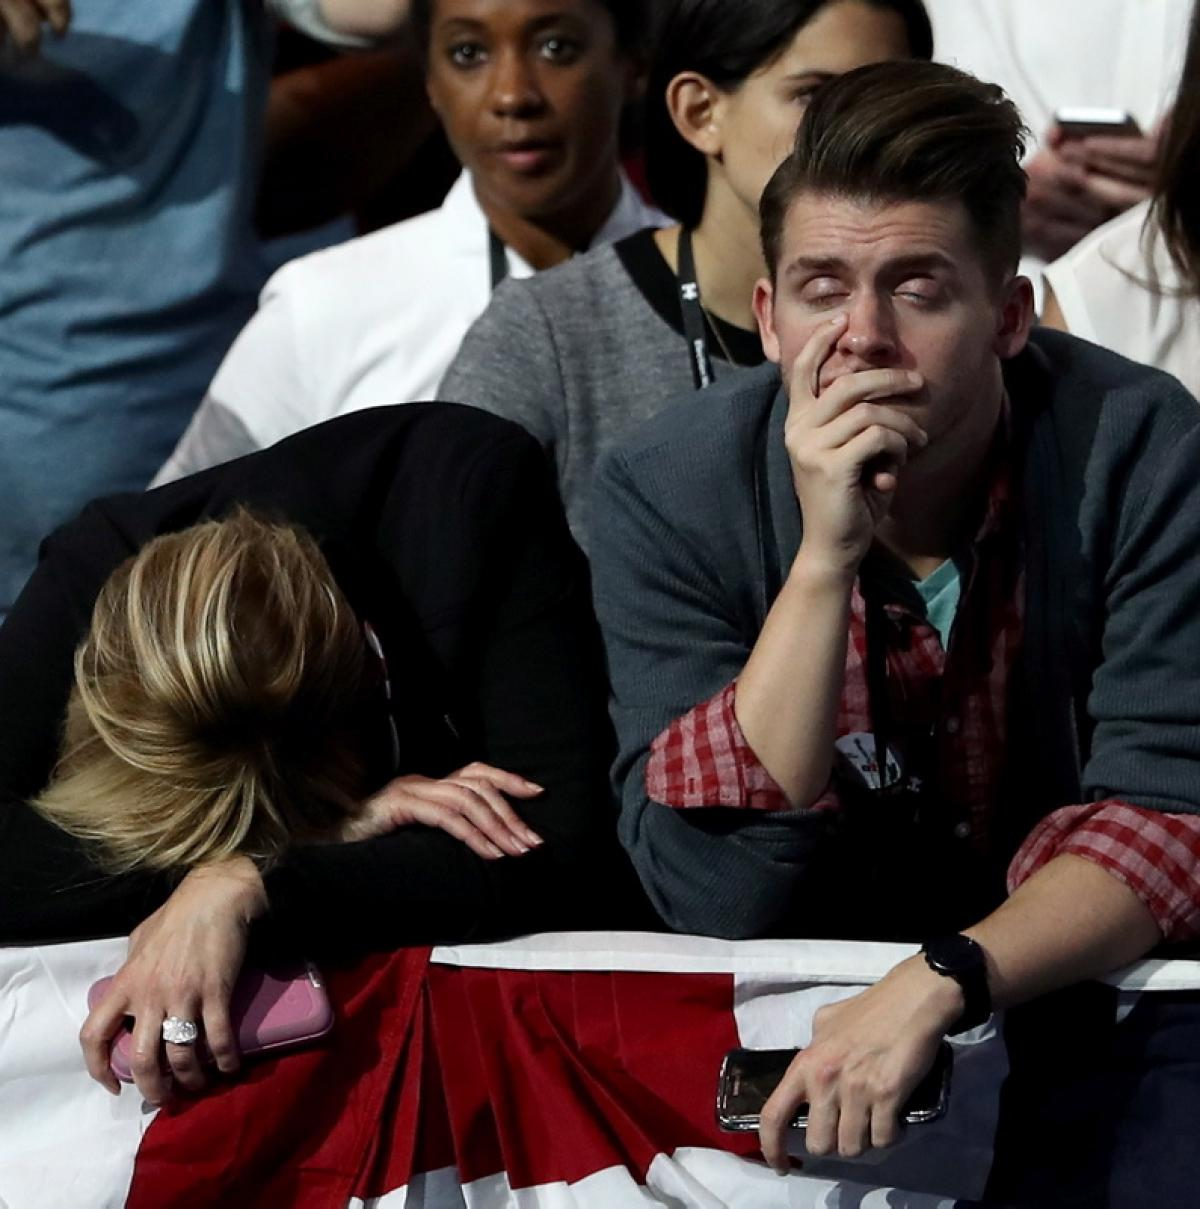sad: (751, 197, 997, 457)
